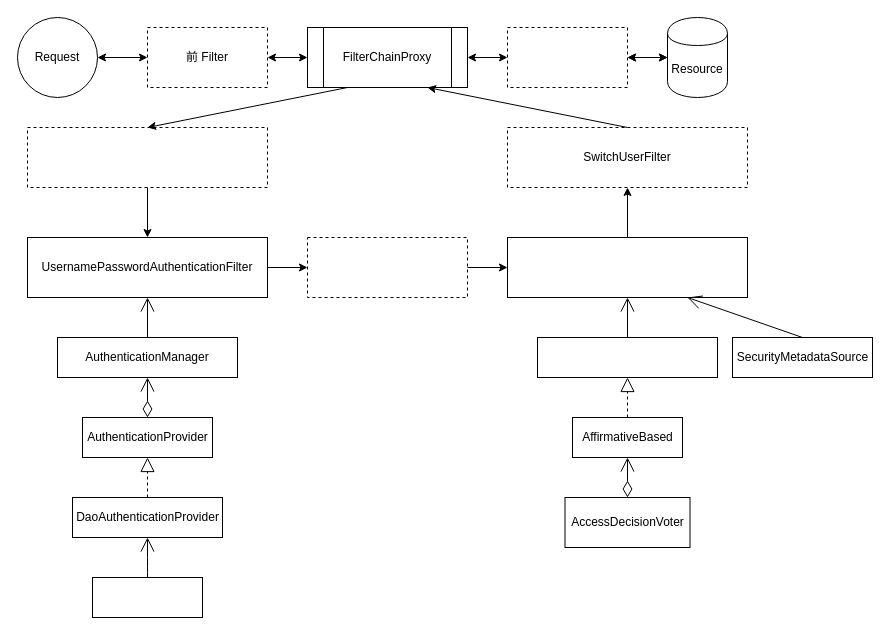
The diagram is 890 pixels wide and 635 high, and some of its shapes have lost their labels. Each missing label, with the box of its shape:
AccessDecisionManager: (536, 336, 718, 378)
BasicAuthenticationFilter RequestCacheAwareFilter: (306, 236, 468, 298)
FilterSecurityInterceptor: (506, 236, 748, 298)
HeaderWriterFilter/CorsFilter/CsrfFilter ...: (26, 126, 268, 188)
UserDetailsService: (92, 576, 202, 618)
后 Filter: (506, 26, 628, 88)
